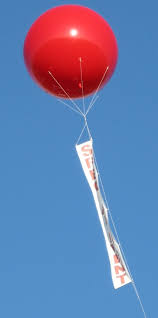Balloon: (24, 5, 119, 97)
